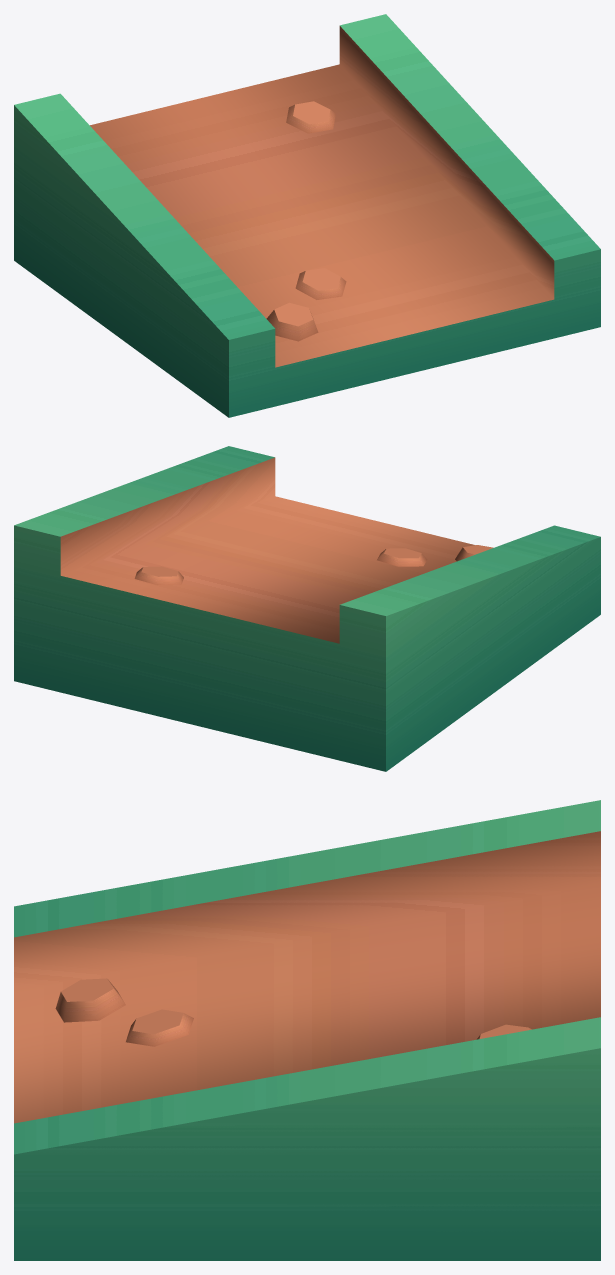
File: tile-straight-slope.glb
The picture shows the model from 3 angles, top to bottom: view 1: azimuth 30°, elevation 25°; view 2: azimuth 150°, elevation 25°; view 3: azimuth 270°, elevation 25°; orthographic projection. The views are drawn at different scales.
Parts seen in each view (by area): view 1: tile-straight-slope; view 2: tile-straight-slope; view 3: tile-straight-slope.
Boxes of the visible parts, bbox=[...] form: tile-straight-slope: bbox=[14, 14, 600, 417]; tile-straight-slope: bbox=[14, 446, 600, 771]; tile-straight-slope: bbox=[14, 800, 600, 1260].
Bounding box in the file's own units: 1 × 0.3999 × 1.
1 material, 1 textured.
